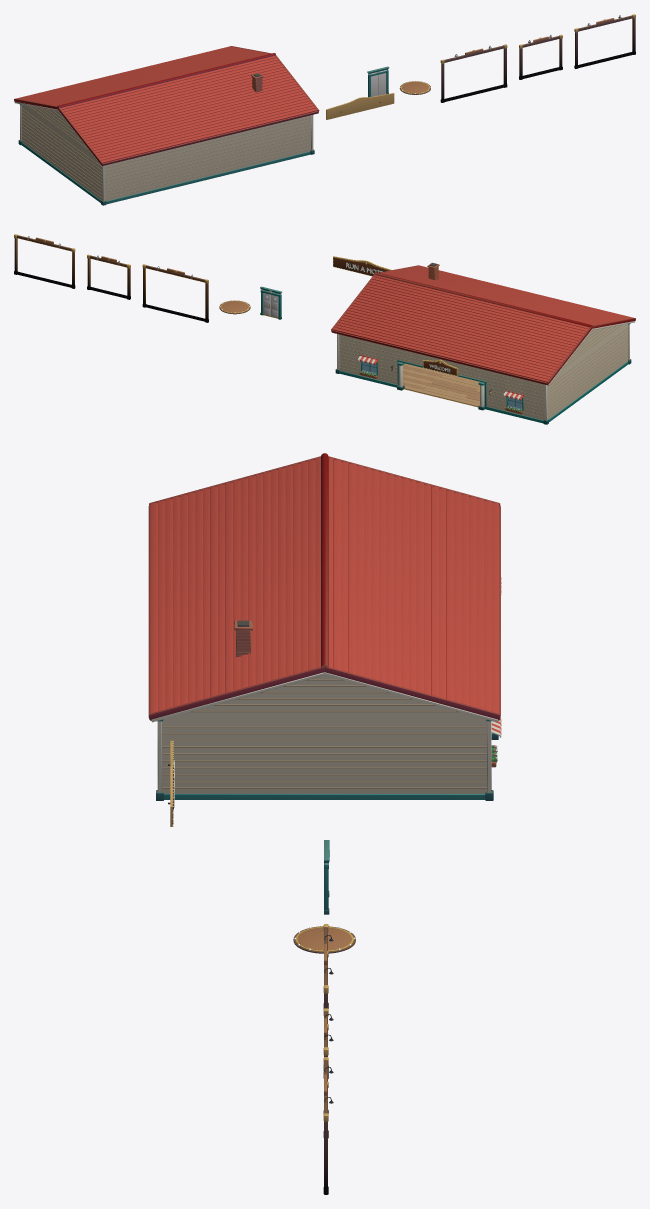
The model's file is motel_kit_lobby.fbx.
3 renders of one model, top to bottom at view 1: azimuth 30°, elevation 25°; view 2: azimuth 150°, elevation 25°; view 3: azimuth 270°, elevation 25°, orthographic. The views are drawn at different scales.
Parts seen in each view (by area): view 1: SM_Bld_LobbyHall_Roof, SM_Bld_LobbyHall_Walls, SM_Bld_LobbyHall_Trim, SM_Bld_LobbyTitle_Sign, SM_Prop_LobbyBoardL_Frame, SM_Prop_LobbyBoardW_Frame, SM_Prop_LobbyBoardM_Frame, SM_Prop_LobbyPad_Base, SM_Bld_LobbyDoor_Leaf; view 2: SM_Bld_LobbyHall_Roof, SM_Bld_LobbyHall_Walls, SM_Bld_LobbyHall_Trim, SM_Bld_LobbyHall_Interior, SM_Prop_LobbyBoardL_Frame, SM_Prop_LobbyBoardW_Frame, SM_Prop_LobbyBoardM_Frame, SM_Bld_LobbyTitle_Sign, SM_Prop_LobbyPad_Base, SM_Bld_LobbyHall_Sign, SM_Bld_LobbyDoor_Leaf; view 3: SM_Bld_LobbyHall_Roof, SM_Bld_LobbyHall_Walls, SM_Bld_LobbyHall_Trim, SM_Prop_LobbyPad_Base.
Boxes of the visible parts, left/top/right/bottom form: SM_Bld_LobbyHall_Roof: left=14, top=46, right=319, bottom=165; SM_Bld_LobbyHall_Walls: left=21, top=104, right=311, bottom=201; SM_Bld_LobbyHall_Trim: left=14, top=101, right=314, bottom=205; SM_Bld_LobbyTitle_Sign: left=326, top=93, right=394, bottom=119; SM_Prop_LobbyBoardL_Frame: left=440, top=44, right=507, bottom=102; SM_Prop_LobbyBoardW_Frame: left=574, top=14, right=635, bottom=68; SM_Prop_LobbyBoardM_Frame: left=519, top=34, right=562, bottom=79; SM_Prop_LobbyPad_Base: left=399, top=81, right=430, bottom=94; SM_Bld_LobbyDoor_Leaf: left=371, top=73, right=386, bottom=96; SM_Bld_LobbyHall_Roof: left=331, top=262, right=635, bottom=385; SM_Bld_LobbyHall_Walls: left=339, top=324, right=628, bottom=420; SM_Bld_LobbyHall_Trim: left=335, top=321, right=635, bottom=424; SM_Bld_LobbyHall_Interior: left=403, top=363, right=484, bottom=406; SM_Prop_LobbyBoardL_Frame: left=142, top=264, right=208, bottom=322; SM_Prop_LobbyBoardW_Frame: left=14, top=234, right=75, bottom=288; SM_Prop_LobbyBoardM_Frame: left=87, top=254, right=130, bottom=299; SM_Bld_LobbyTitle_Sign: left=333, top=256, right=391, bottom=275; SM_Prop_LobbyPad_Base: left=219, top=300, right=250, bottom=314; SM_Bld_LobbyHall_Sign: left=423, top=359, right=458, bottom=375; SM_Bld_LobbyDoor_Leaf: left=263, top=293, right=278, bottom=317; SM_Bld_LobbyHall_Roof: left=148, top=453, right=500, bottom=720; SM_Bld_LobbyHall_Walls: left=162, top=675, right=487, bottom=793; SM_Bld_LobbyHall_Trim: left=151, top=672, right=498, bottom=800; SM_Prop_LobbyPad_Base: left=293, top=926, right=355, bottom=953.
Size of the model in its own units: 230 by 35.4 by 60.84.
